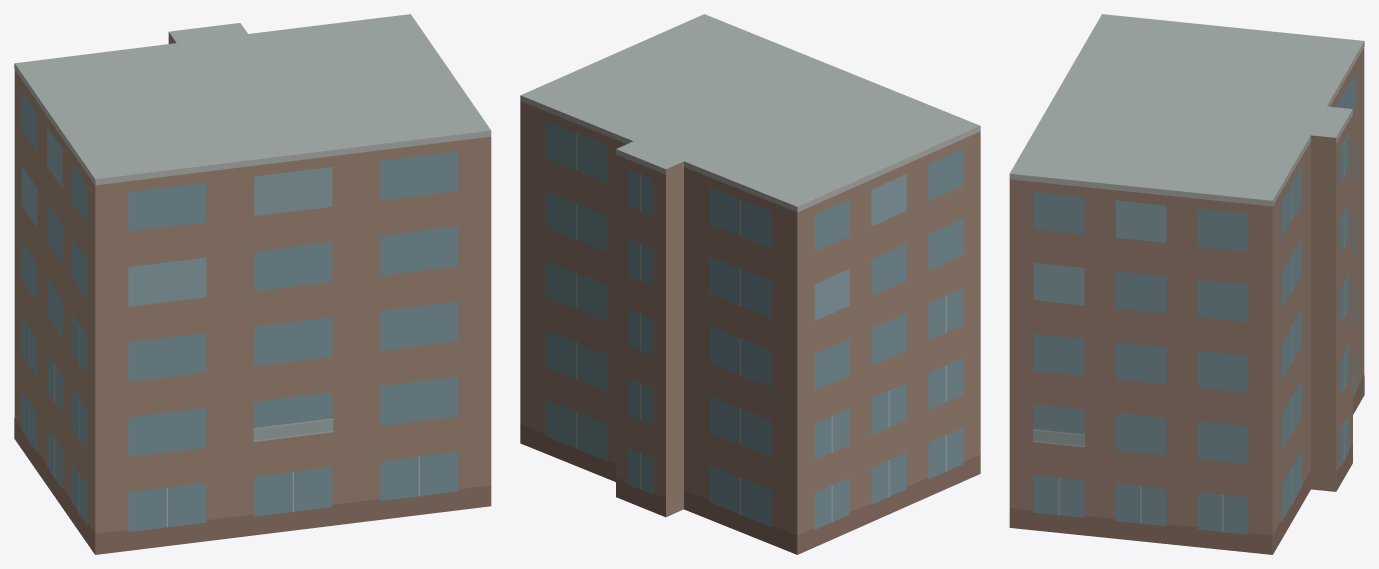
The model's file is survey-upis-32580632.glb.
The picture shows the model from 3 angles, left to right: view 1: azimuth 30°, elevation 25°; view 2: azimuth 150°, elevation 25°; view 3: azimuth 270°, elevation 25°; orthographic projection. The views are drawn at different scales.
Parts seen in each view (by area): view 1: survey-upis-32580632.tmp; view 2: survey-upis-32580632.tmp; view 3: survey-upis-32580632.tmp.
Part boxes in pixels (bbox=[...]): survey-upis-32580632.tmp: bbox=[14, 14, 491, 554]; survey-upis-32580632.tmp: bbox=[520, 14, 980, 554]; survey-upis-32580632.tmp: bbox=[1009, 14, 1364, 554].
Size of the model in its own units: 17.27 by 15.25 by 13.86.
